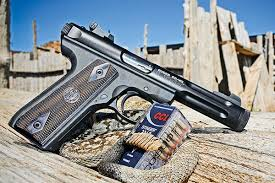gun: (9, 21, 252, 152)
